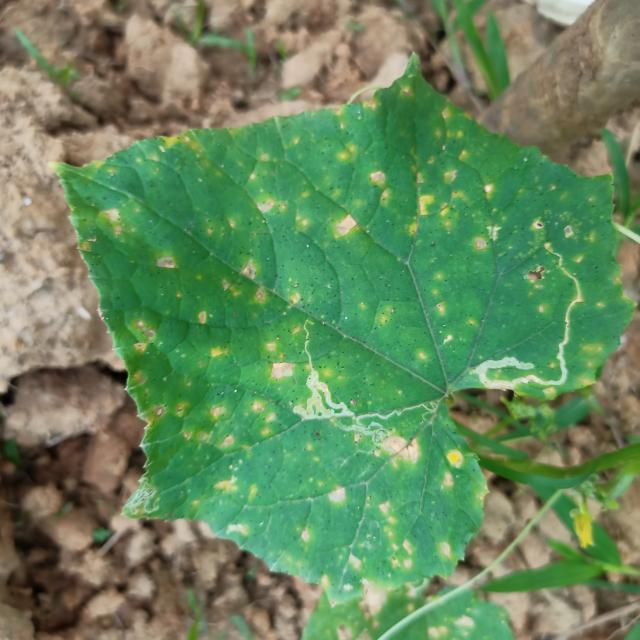disease_cucumber: (98, 104, 596, 580)
